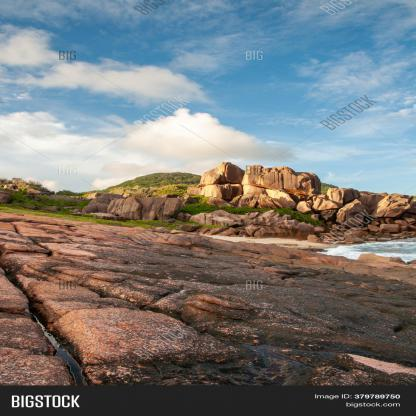Igneous_Granite: (221, 251, 391, 349), (42, 297, 202, 383), (20, 216, 150, 290), (232, 160, 338, 206)
